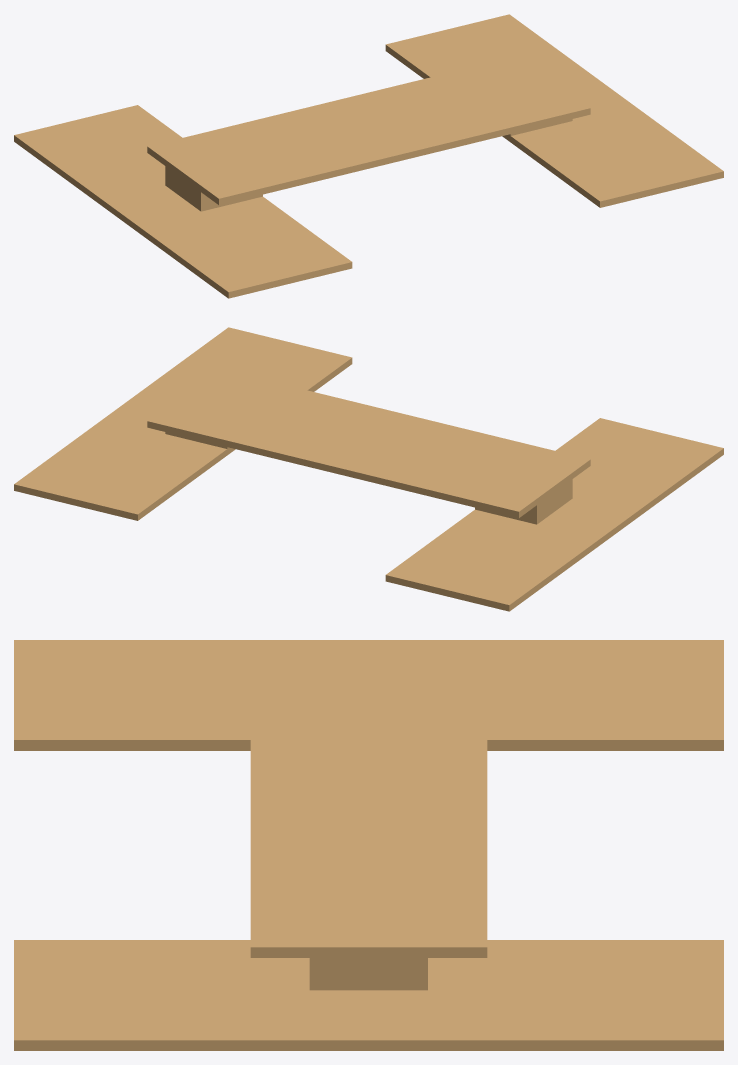
File: board.glb
3 views of the same model, one above another, from view 1: azimuth 30°, elevation 25°; view 2: azimuth 150°, elevation 25°; view 3: azimuth 270°, elevation 25° (orthographic). The views are drawn at different scales.
Visible parts, largest first — view 1: Substrate_Layer_2, Substrate_Layer_0, Substrate_Layer_1, Substrate_Layer_3, Substrate_Layer_4; view 2: Substrate_Layer_2, Substrate_Layer_0, Substrate_Layer_1, Substrate_Layer_4, Substrate_Layer_3; view 3: Substrate_Layer_2, Substrate_Layer_1, Substrate_Layer_0, Substrate_Layer_4, Substrate_Layer_3.
Part boxes in pixels (x1,y1,x2,y2): Substrate_Layer_2: (147,56,590,205); Substrate_Layer_0: (14,105,352,298); Substrate_Layer_1: (385,14,723,207); Substrate_Layer_3: (165,144,262,211); Substrate_Layer_4: (475,69,572,142); Substrate_Layer_2: (147,369,590,518); Substrate_Layer_0: (385,418,723,611); Substrate_Layer_1: (14,327,352,520); Substrate_Layer_4: (165,382,260,455); Substrate_Layer_3: (475,464,572,524); Substrate_Layer_2: (250,647,487,957); Substrate_Layer_1: (14,940,723,1050); Substrate_Layer_0: (14,640,723,750); Substrate_Layer_4: (309,897,427,990); Substrate_Layer_3: (309,647,427,697).
Size of the model in its own units: 0.08 by 0.005 by 0.06.
